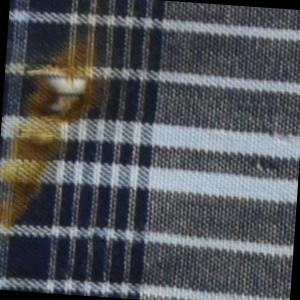Damage: (15, 51, 95, 154), (254, 156, 285, 182)
Oil Stain: (1, 18, 116, 246)
